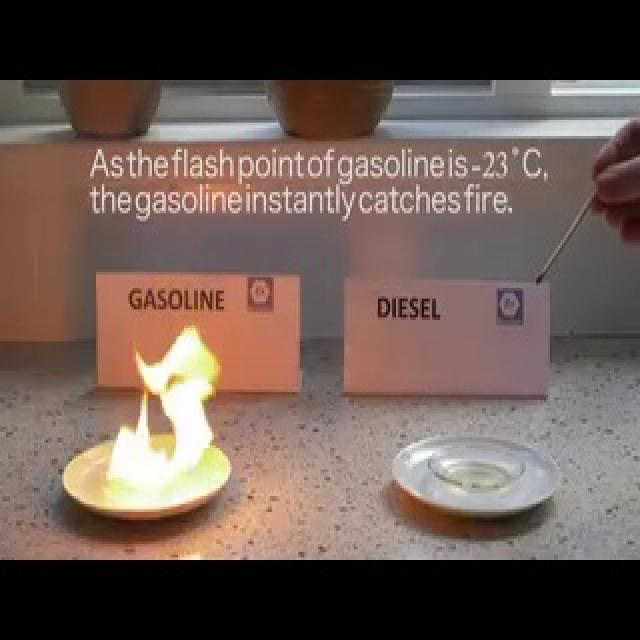fire: (110, 324, 231, 498)
